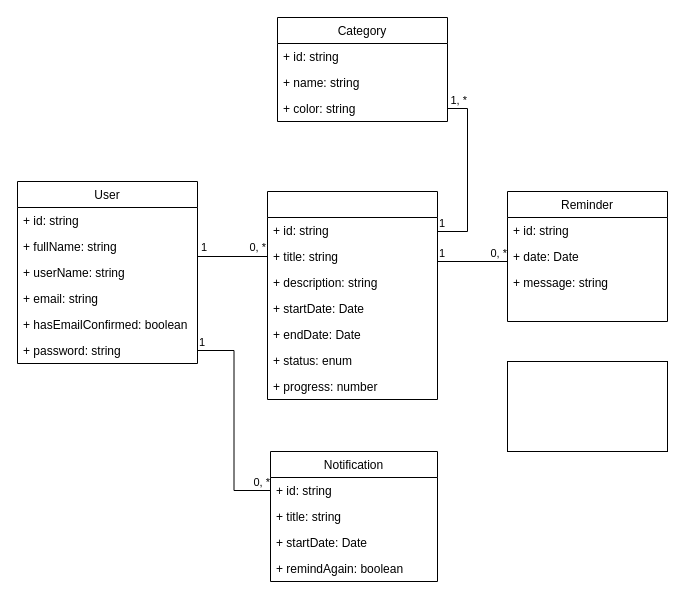
This 685x602 diagram has some shape labels left out. Here are the shapes that lost their labels. From the top down, the box of each, then its label:
(266, 190, 438, 400): Task
(506, 360, 668, 452): enum field1 = Completado field2 = En curso field3 = Planificado field4 = Editada
